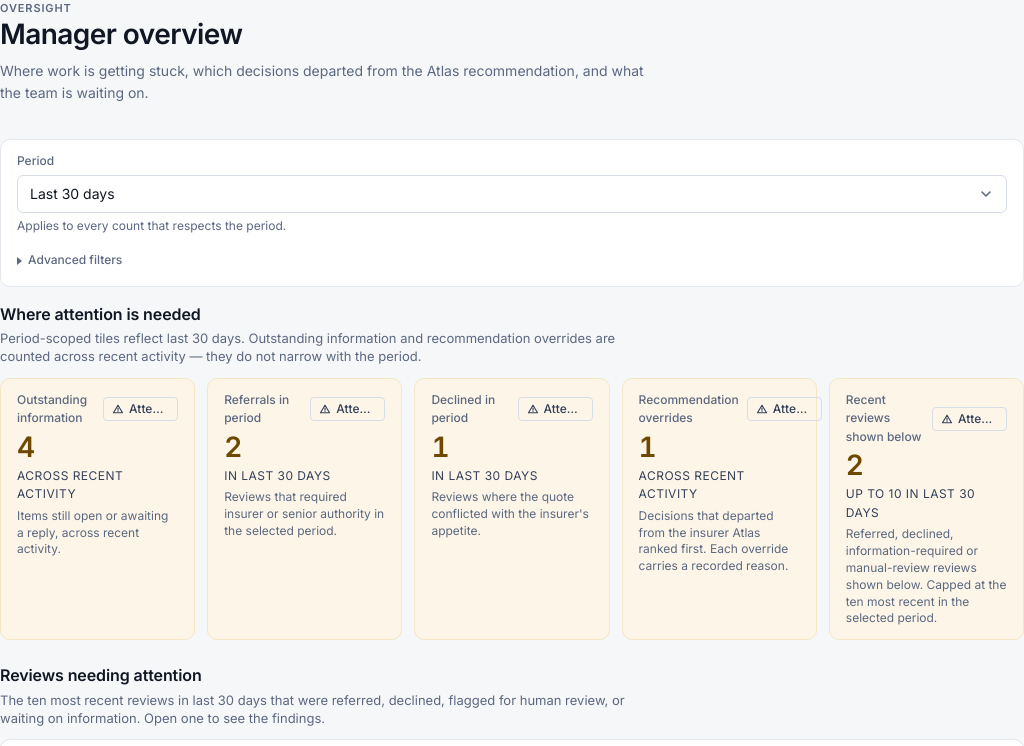
Test: Manager oversight workbench › re-requests immediately when Period changes and shows the chip
This screenshot has width=1024, height=746.
Expected: the heading "Manager overview" is shown, [0,17,242,52]
Step 1. Select "Last 7 days" in the dropdown labelled "Period" → (512, 194), box [17,175,1007,213]
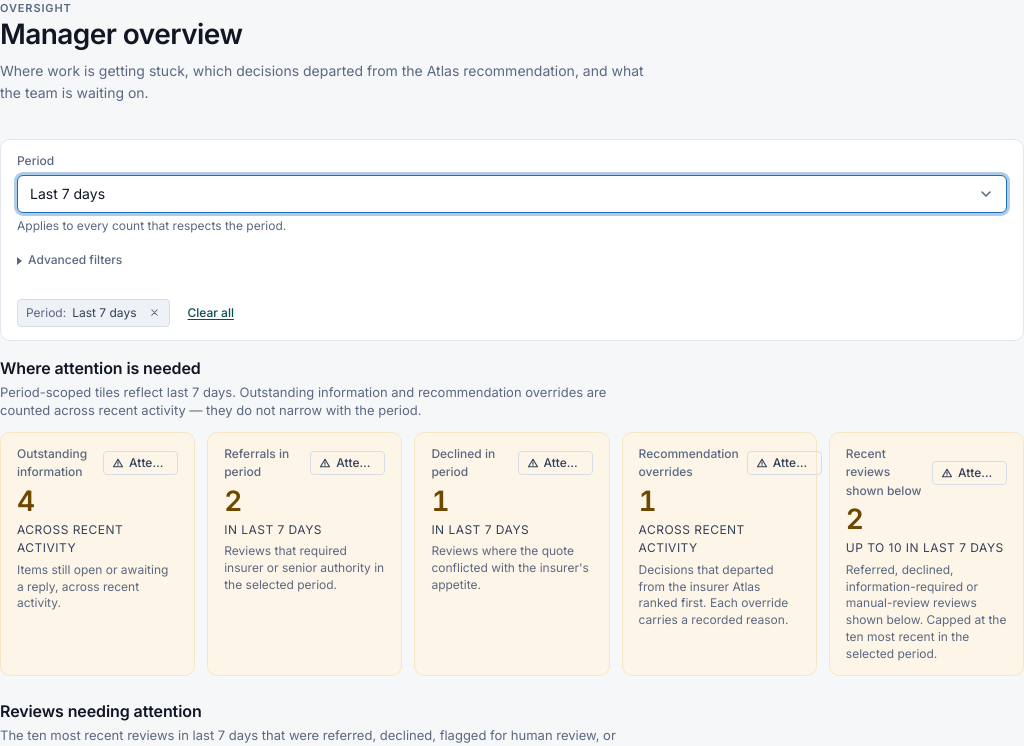
Expected: the text "Period:" is shown, [26,304,66,322]
